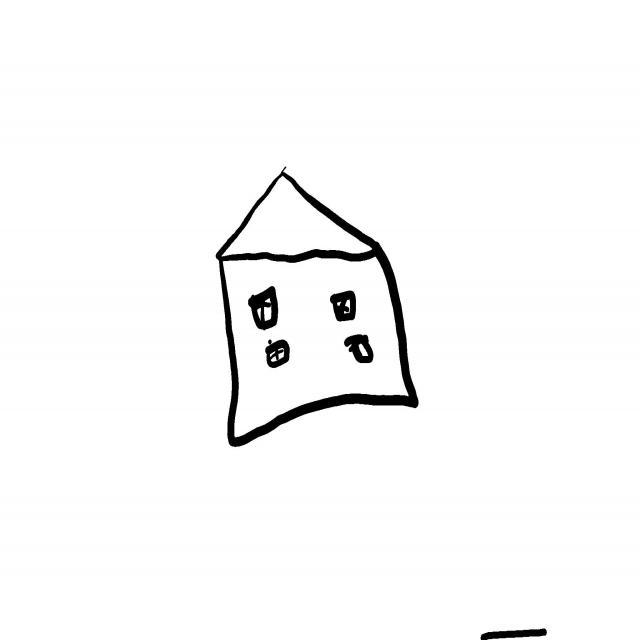house: (218, 171, 419, 446)
roof: (215, 169, 381, 262)
wall: (218, 253, 414, 439)
window: (249, 287, 278, 330), (345, 335, 374, 364), (331, 291, 355, 320), (265, 342, 290, 369)
